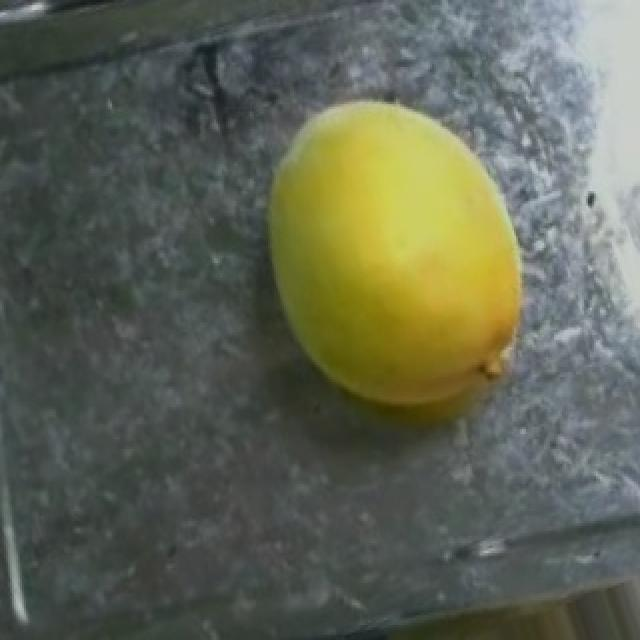fruit: (246, 52, 586, 457)
